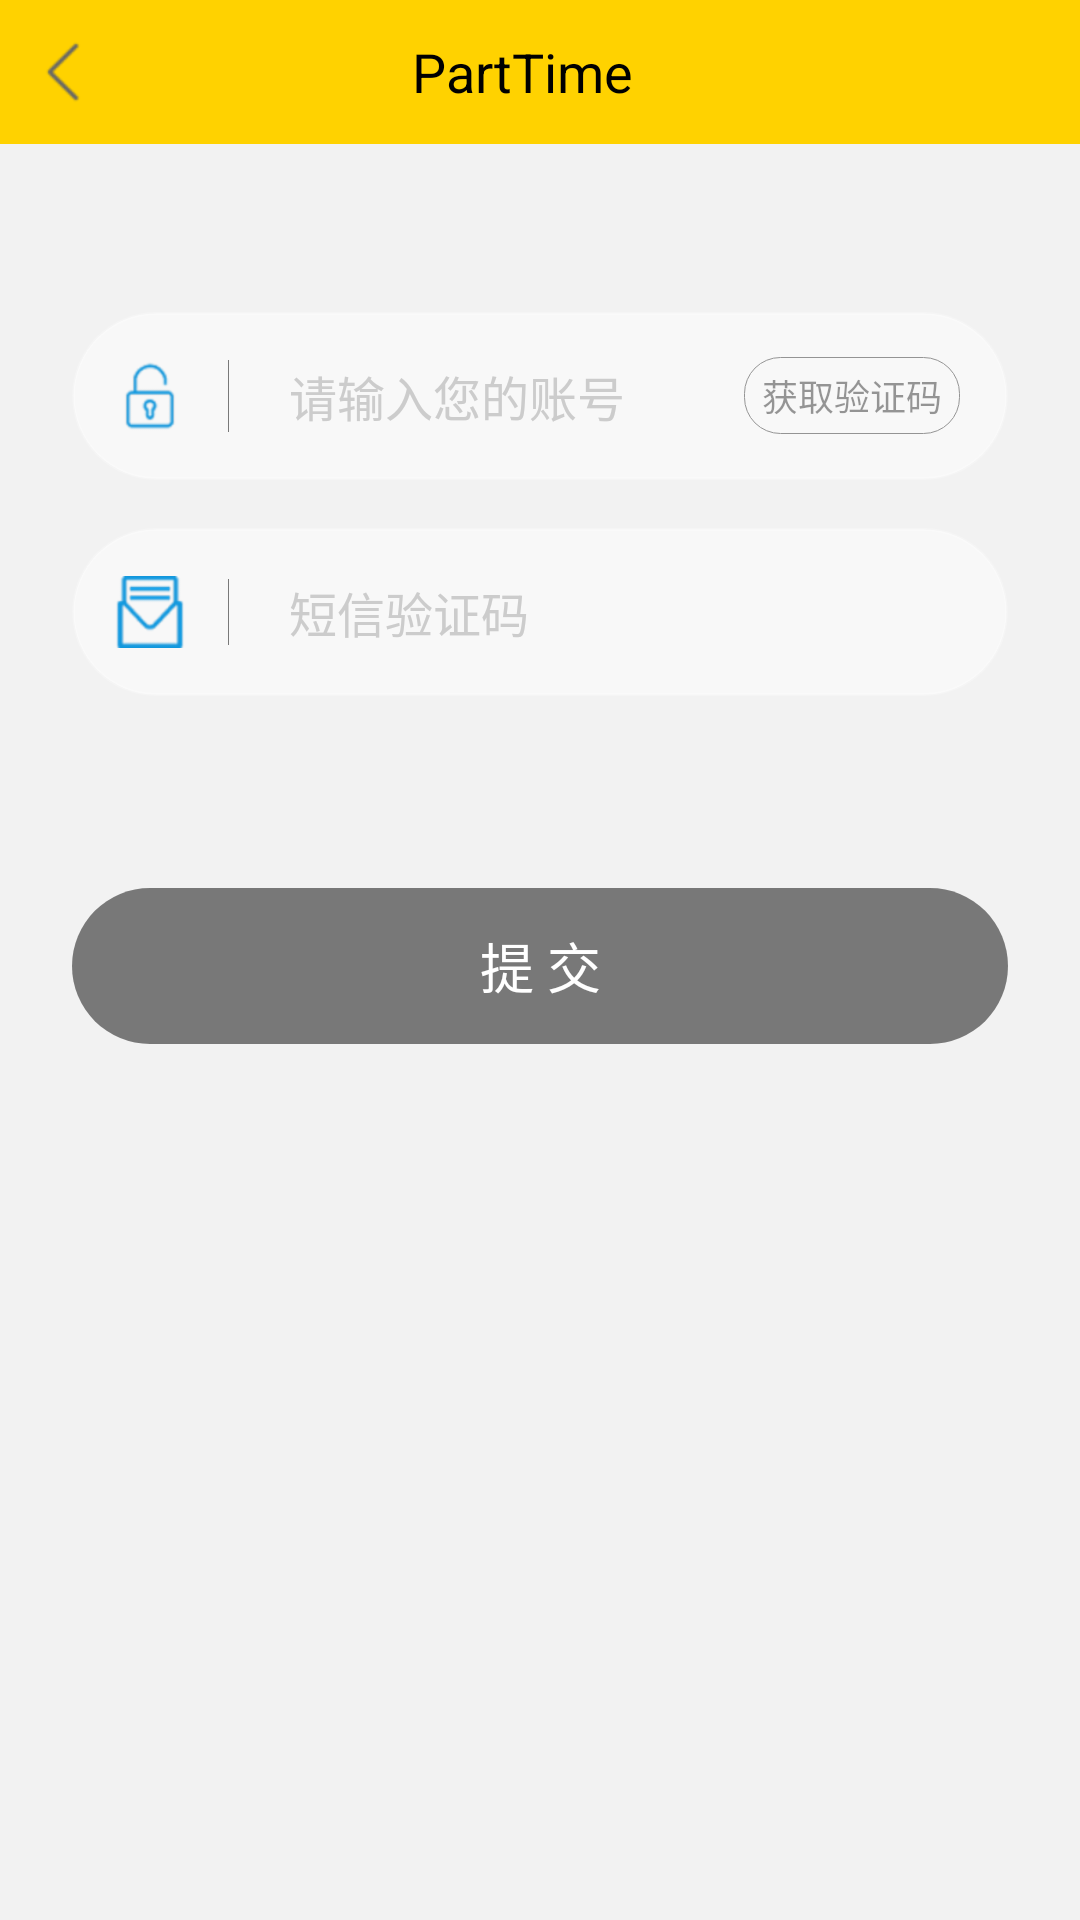

Screen size 1080px×1920px. Icon name, then its center in pixels as (x=x, y=y):
back: (x=63, y=72)
login password: (x=150, y=396)
signup sms: (x=150, y=612)
